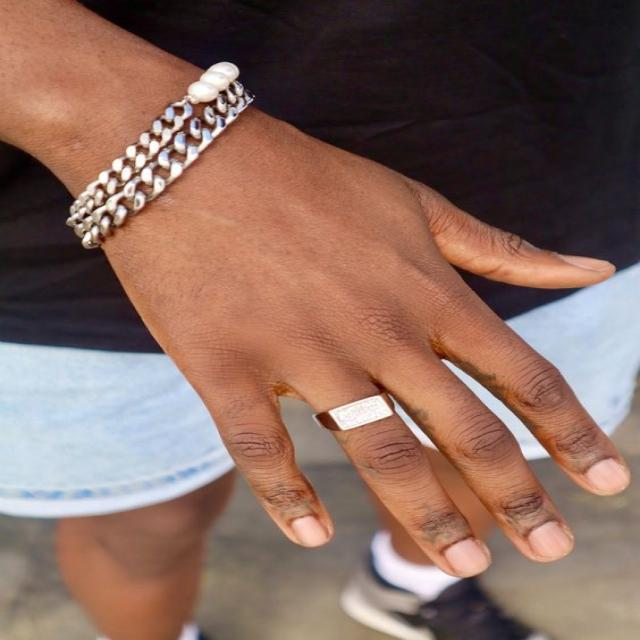Fingernail: (529, 522, 571, 562), (444, 540, 488, 578), (586, 459, 628, 492), (292, 516, 327, 548)
